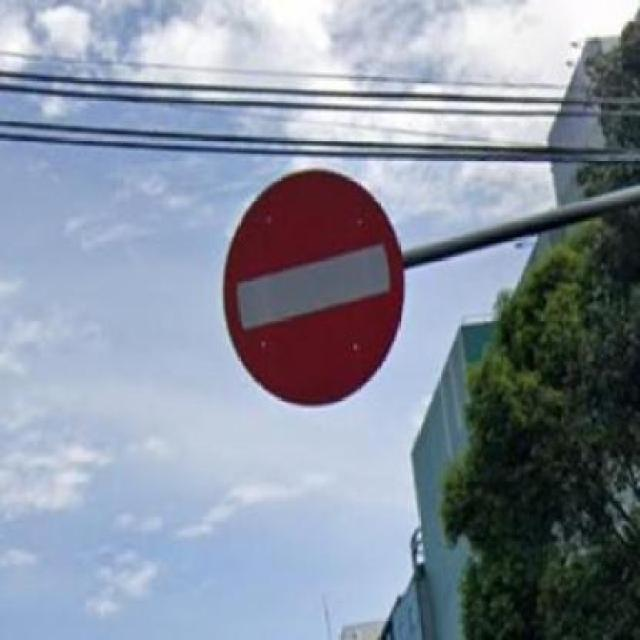no entry: (210, 159, 418, 419)
